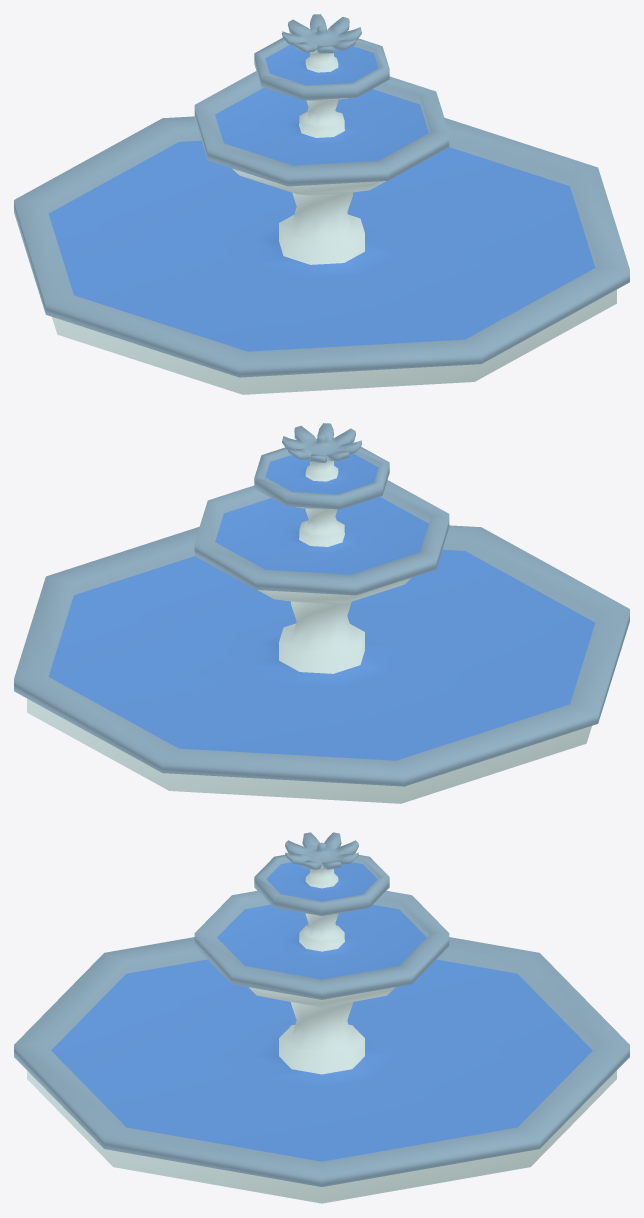
File: tmg-waldo_envir_fountain.glb
3 renders of one model, top to bottom at view 1: azimuth 30°, elevation 25°; view 2: azimuth 150°, elevation 25°; view 3: azimuth 270°, elevation 25°, orthographic. The views are drawn at different scales.
Parts seen in each view (by area): view 1: envir_fountain; view 2: envir_fountain; view 3: envir_fountain.
Part boxes in pixels (x1=…): envir_fountain: x1=14, y1=14, x2=629, y2=394; envir_fountain: x1=14, y1=423, x2=629, y2=803; envir_fountain: x1=14, y1=832, x2=629, y2=1203.
Size of the model in its own units: 6.54 by 2.76 by 6.54.
Materials: 1 (1 with a texture image).
